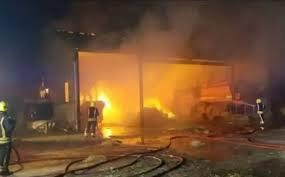fire: (95, 85, 116, 122), (146, 96, 174, 117)
